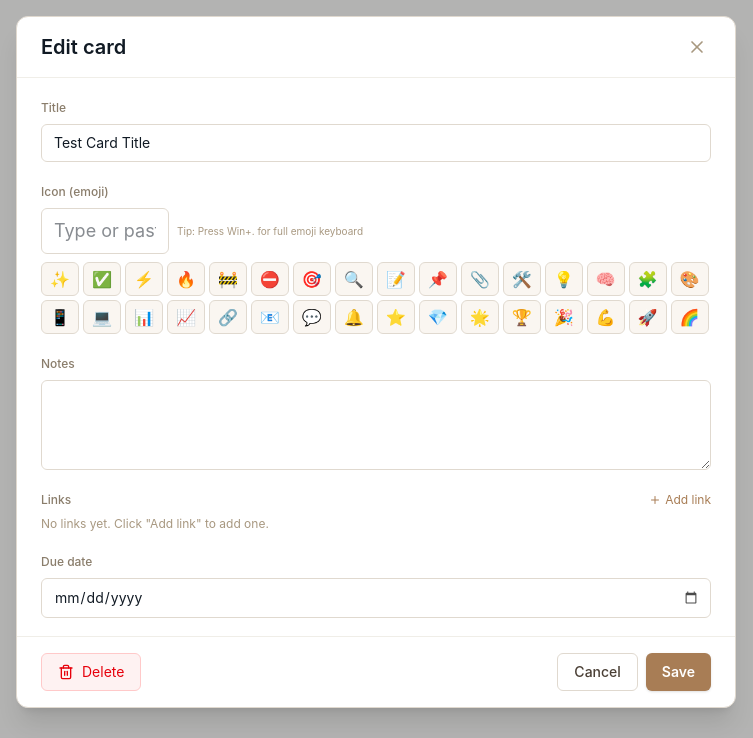
Test case: CardModal › editing › sets icon when emoji button is clicked
What coordinates should you click on to do the following:
click the button "🎯"
I would click on:
 (312, 279)
Its box is [293,262,331,296].
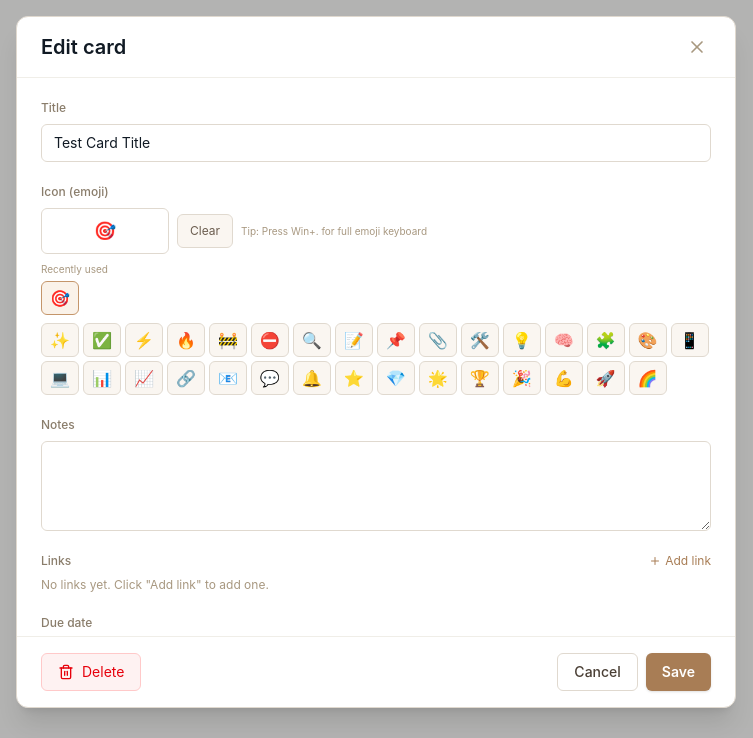
Expected: the field showing "🎯" in the row of "Tip: Press" is shown, [41,208,169,254]
